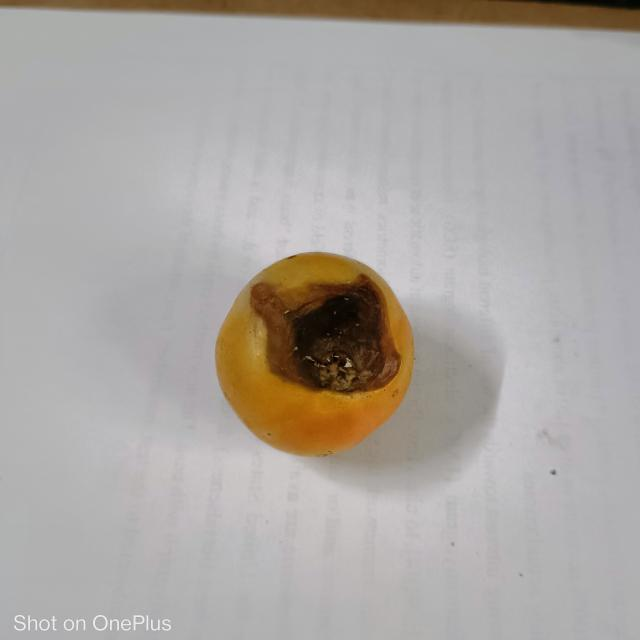Anthrocnose: (248, 278, 400, 392)
